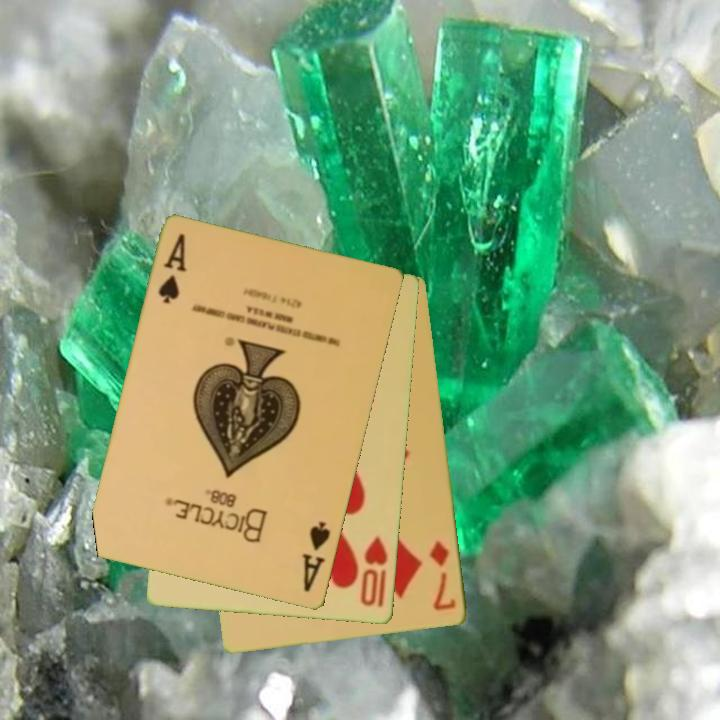10h: (357, 532, 391, 611)
7d: (426, 537, 460, 615)
As: (299, 518, 334, 596), (155, 230, 190, 308)
